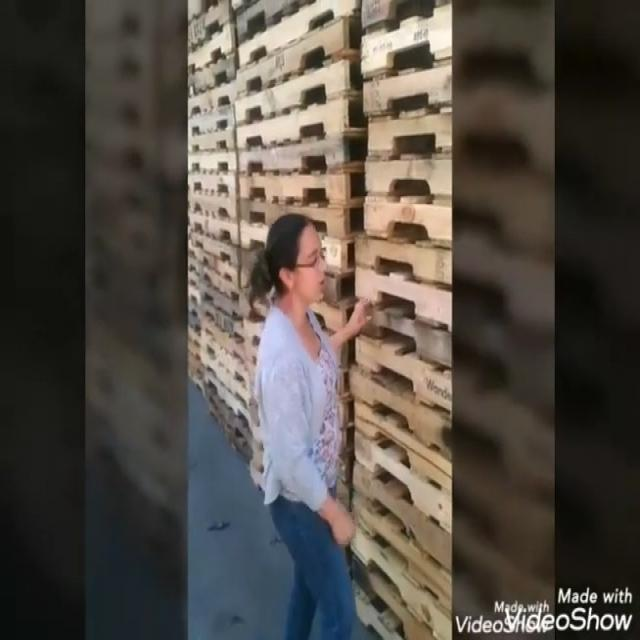Palette: (357, 1, 451, 639), (190, 0, 244, 464), (235, 0, 342, 216)
